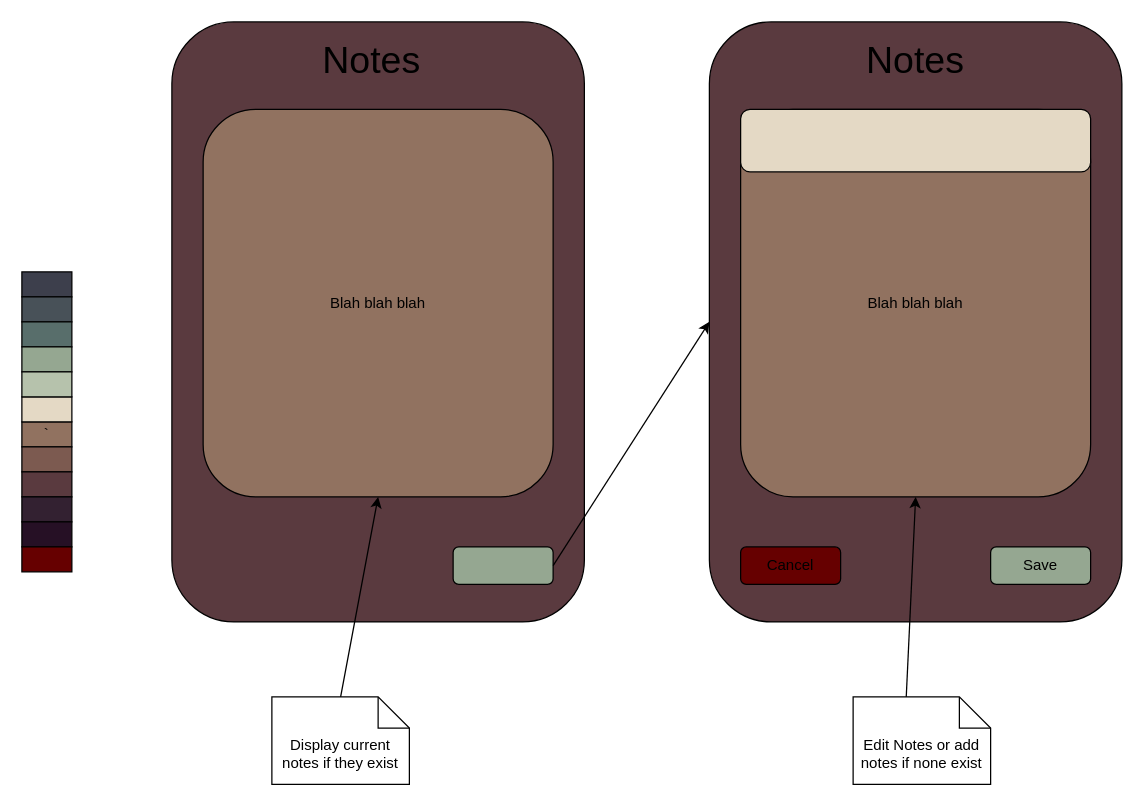
Image size: 1144x806. Some labels were removed from this diagram. Here are the shapes that lost their labels. From the top down, the box of each, then its label:
(739, 108, 1091, 172): Editor Tools
(452, 546, 553, 584): Update
